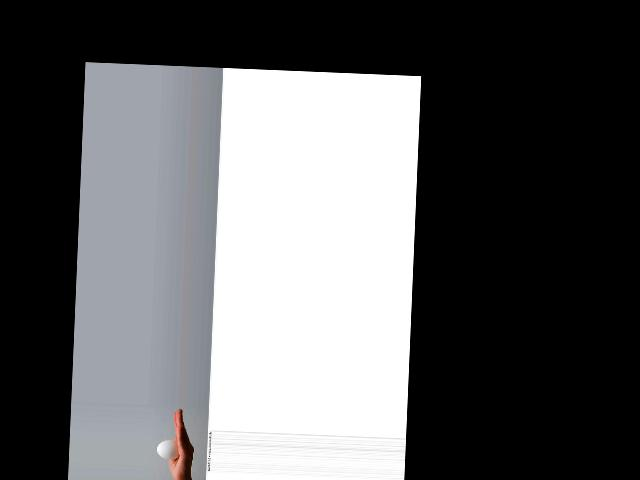egg: (156, 439, 180, 459)
